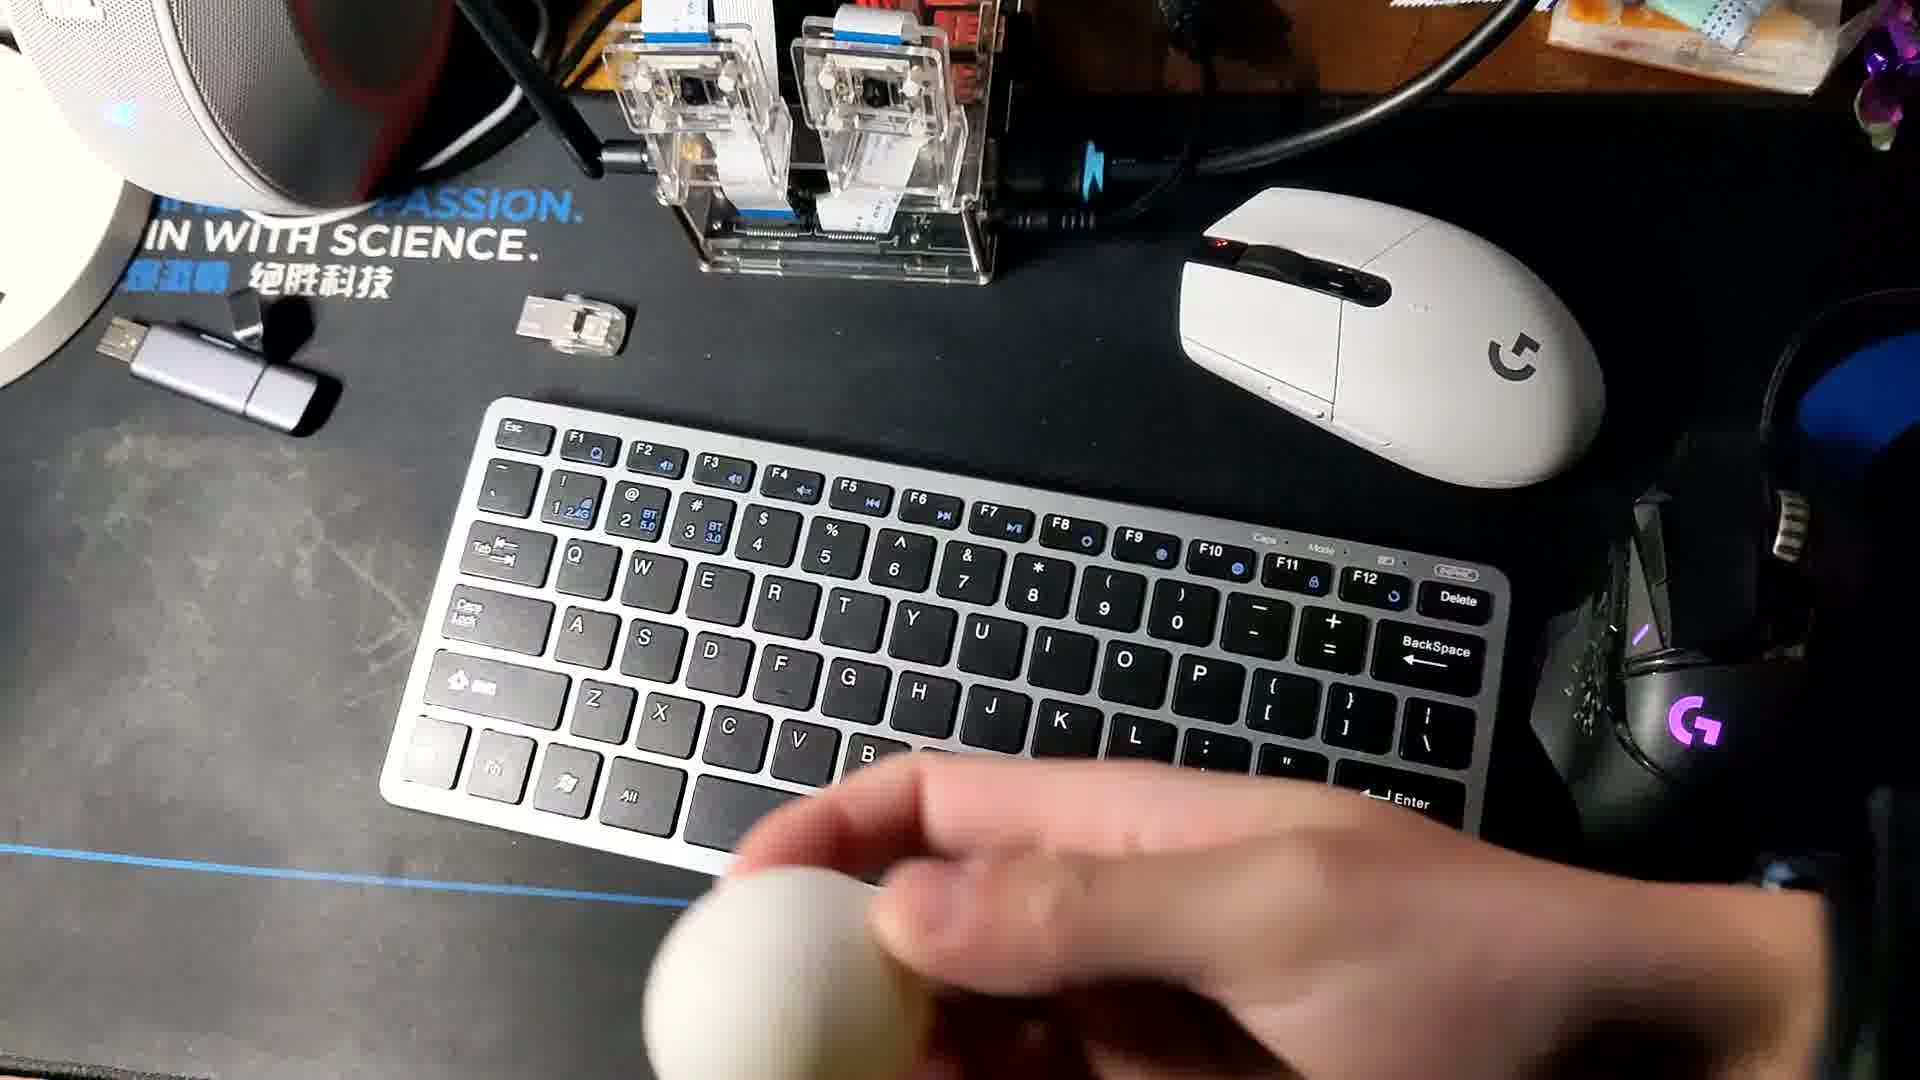Ball: (633, 862, 938, 1080)
